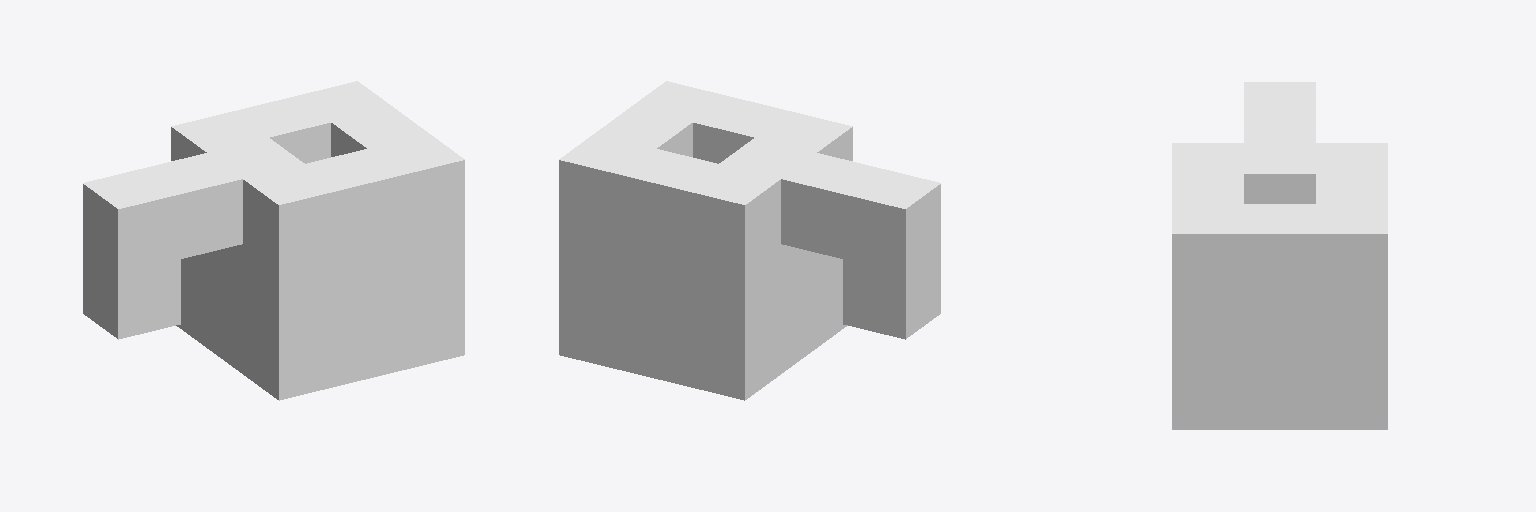
File: coffee0.obj
3 views of the same model, side by side, from view 1: azimuth 30°, elevation 25°; view 2: azimuth 150°, elevation 25°; view 3: azimuth 270°, elevation 25° (orthographic).
Bounding box in the file's own units: 0.25 × 0.15 × 0.15.